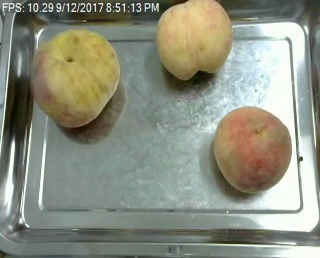Peach: (30, 27, 121, 128), (212, 104, 292, 192), (156, 0, 234, 81)
